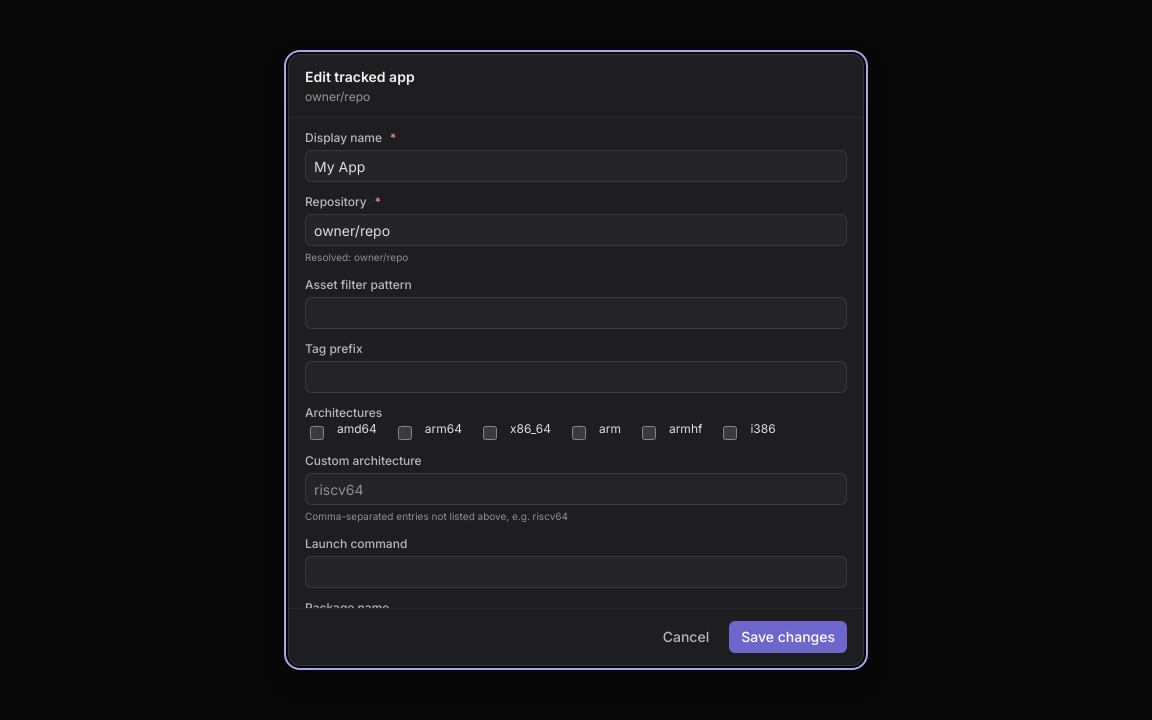
Test case: EditAppDialog › requires a display name
Clear the field labelled "Display name": (576, 166) [305,150,847,182]
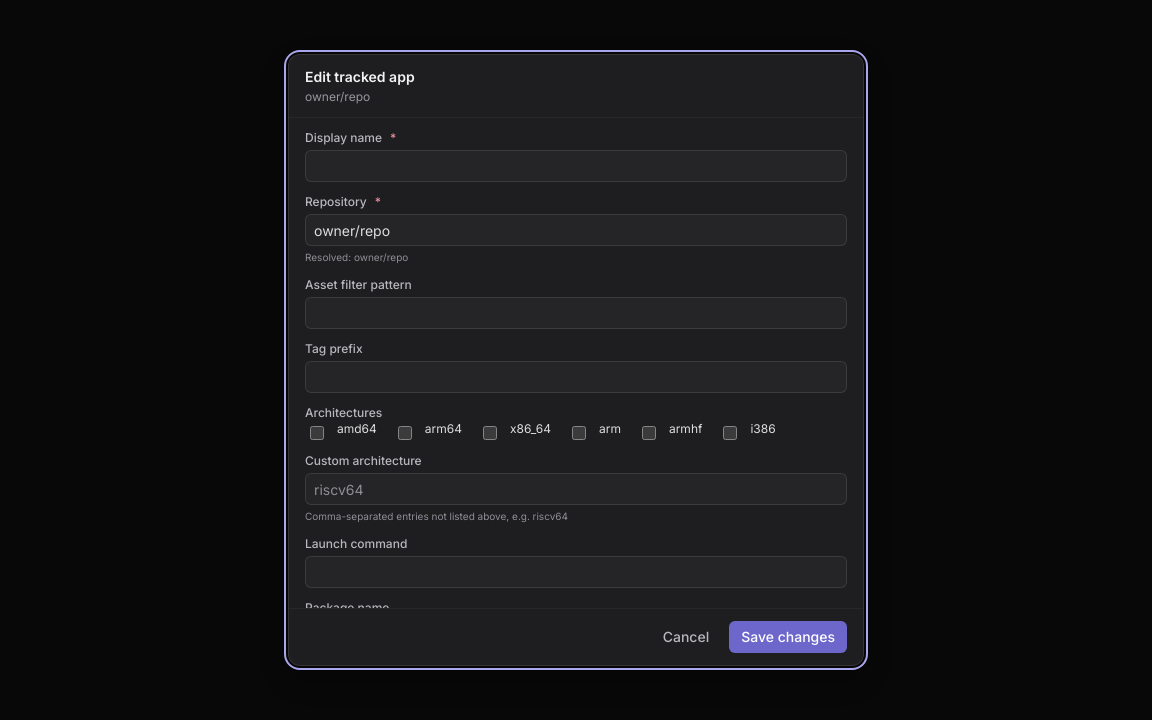
Click the button "Save changes": click(788, 637) [729,621,847,653]
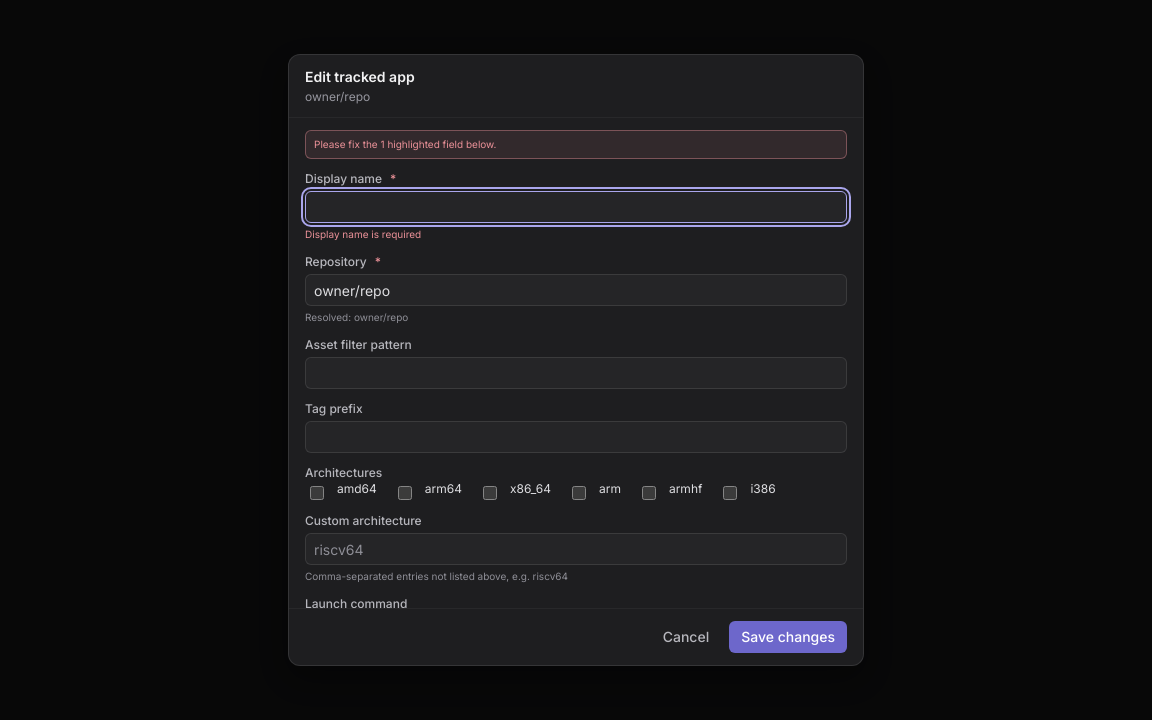
Result: the text "Display name is required" is shown at [305,228,421,240]
